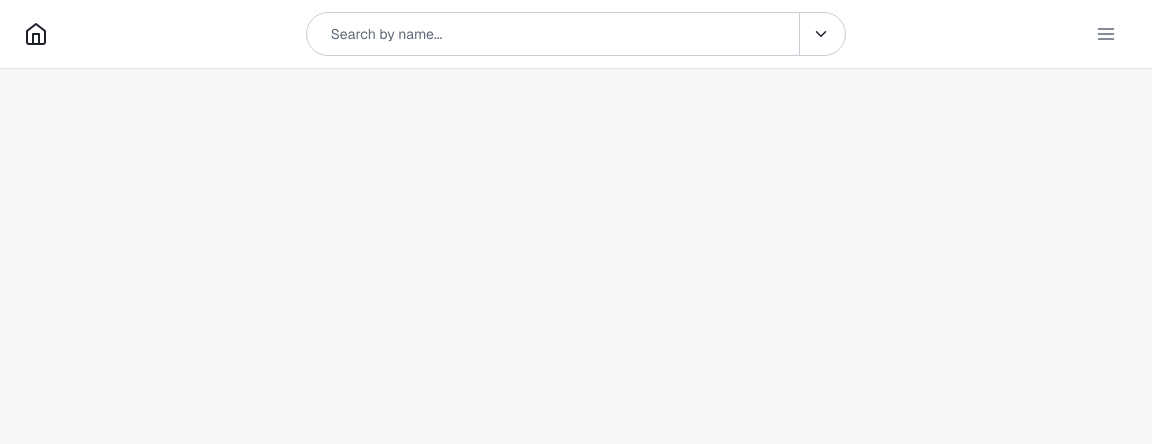
Test: folding on a narrow viewport › moves the search-by choice into the filter, out of the field
Expected: the radio button labelled "Series" is not shown
Click the button named "Filter".
click(821, 34)  # box [800,13,842,55]
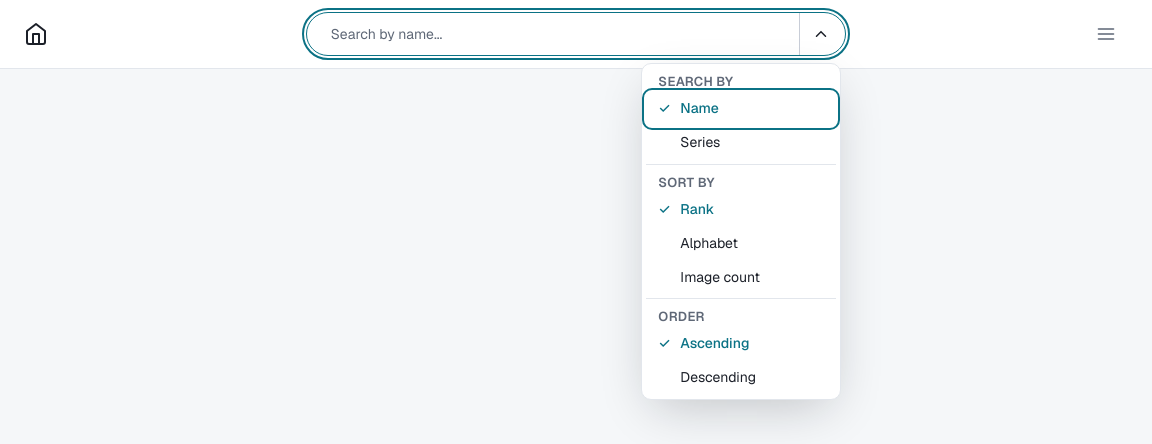
Click the menu item "Series".
click(741, 142)  # box [646,126,836,160]
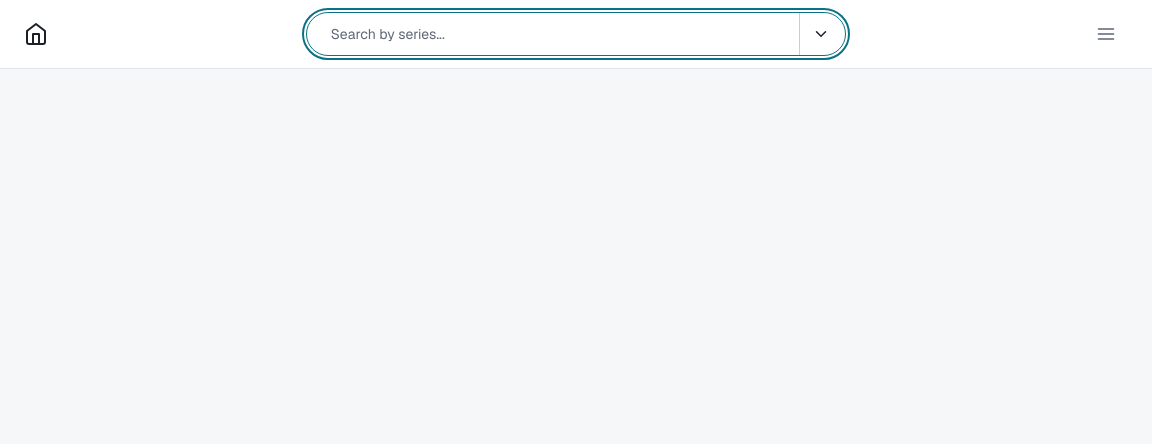
Result: the menu is gone
